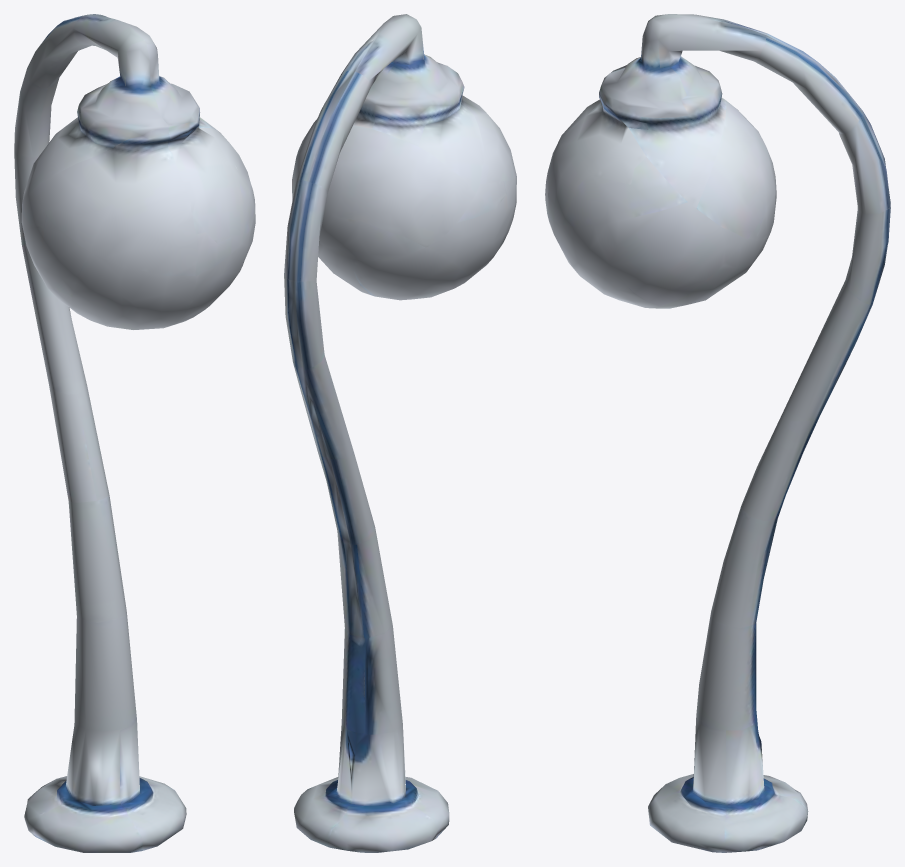
Rendered from farol.glb.
3 views of the same model, side by side, from view 1: azimuth 30°, elevation 25°; view 2: azimuth 150°, elevation 25°; view 3: azimuth 270°, elevation 25° (orthographic). The views are drawn at different scales.
Visible parts, largest first — view 1: tripo_node_b1f93380-f765-40a6-b87f-47342f18ab6e; view 2: tripo_node_b1f93380-f765-40a6-b87f-47342f18ab6e; view 3: tripo_node_b1f93380-f765-40a6-b87f-47342f18ab6e.
Part boxes in pixels (box(x1,y1,x2,y2)): tripo_node_b1f93380-f765-40a6-b87f-47342f18ab6e: box(14, 14, 255, 852); tripo_node_b1f93380-f765-40a6-b87f-47342f18ab6e: box(284, 14, 516, 852); tripo_node_b1f93380-f765-40a6-b87f-47342f18ab6e: box(545, 14, 890, 852).
Bounding box in the file's own units: 0.2607 × 0.9996 × 0.3895.
Materials: 1 (1 with a texture image).
